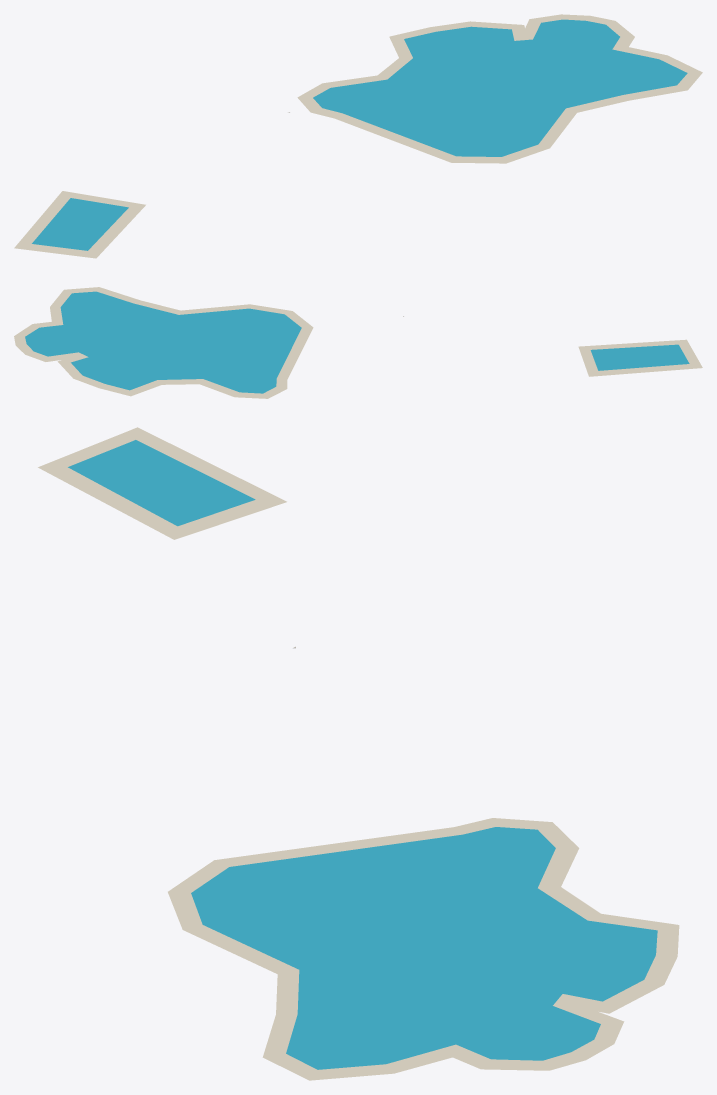
File: pbpool_m23_m13.glb
The picture shows the model from 3 angles, top to bottom: view 1: azimuth 30°, elevation 25°; view 2: azimuth 150°, elevation 25°; view 3: azimuth 270°, elevation 25°; orthographic projection. The views are drawn at different scales.
Visible parts, largest first — view 1: pbpool_m23_m13_lod0; view 2: pbpool_m23_m13_lod0; view 3: pbpool_m23_m13_lod0.
Boxes of the visible parts, <box> form: pbpool_m23_m13_lod0: <box>14,14,702,258</box>; pbpool_m23_m13_lod0: <box>14,287,702,398</box>; pbpool_m23_m13_lod0: <box>38,427,679,1080</box>.
Size of what is drawn, in the model's own units: 82.6 by 6.96 by 38.5.
